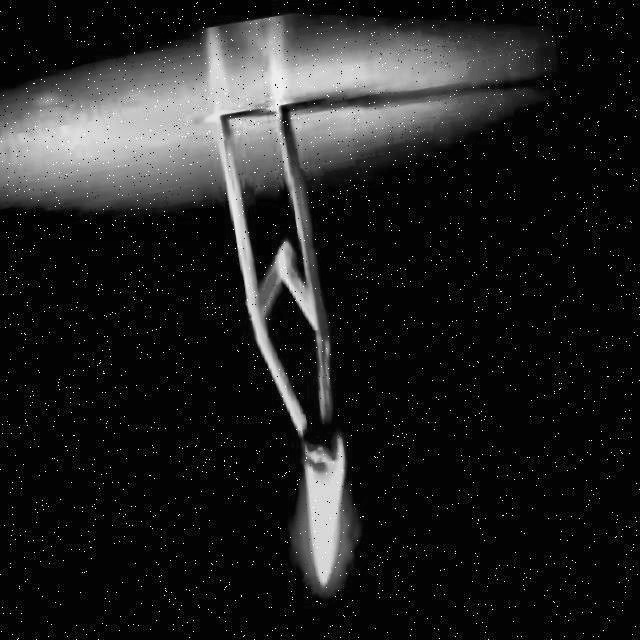Fire: (295, 430, 379, 586)
